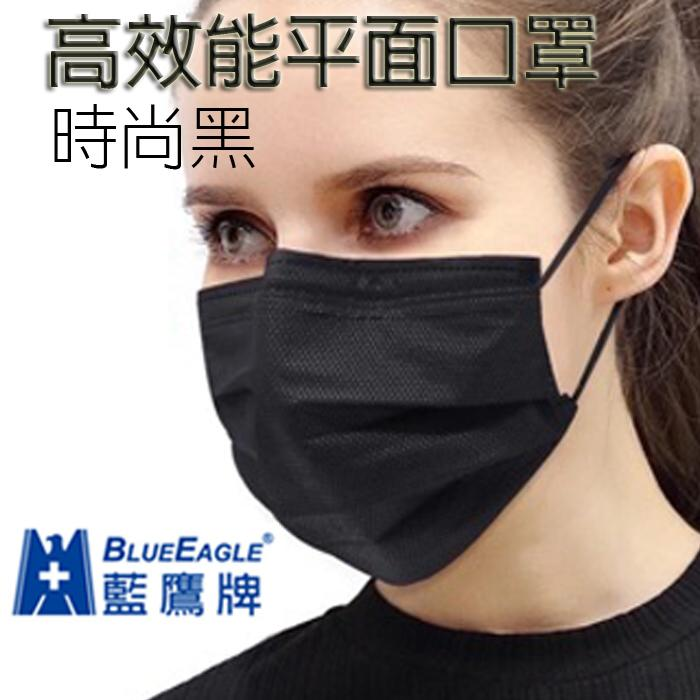Mask: (185, 9, 670, 584)
